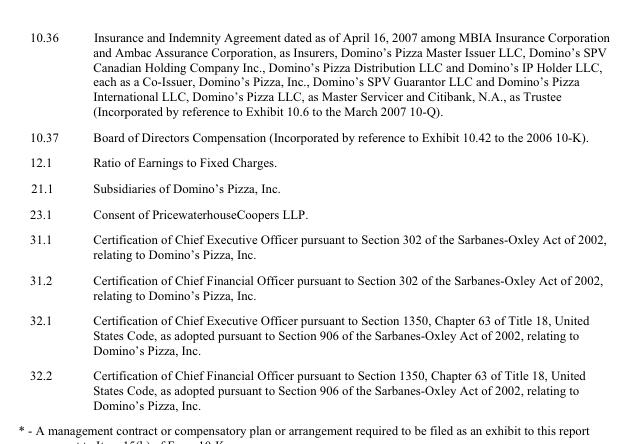table: (28, 28, 608, 412)
table column: (75, 28, 608, 412), (28, 28, 75, 412)
table row: (28, 28, 608, 123), (28, 306, 608, 362), (28, 362, 608, 412), (28, 226, 608, 266), (28, 266, 608, 306), (28, 148, 608, 174), (28, 174, 608, 200), (28, 200, 608, 226), (28, 123, 608, 148)
